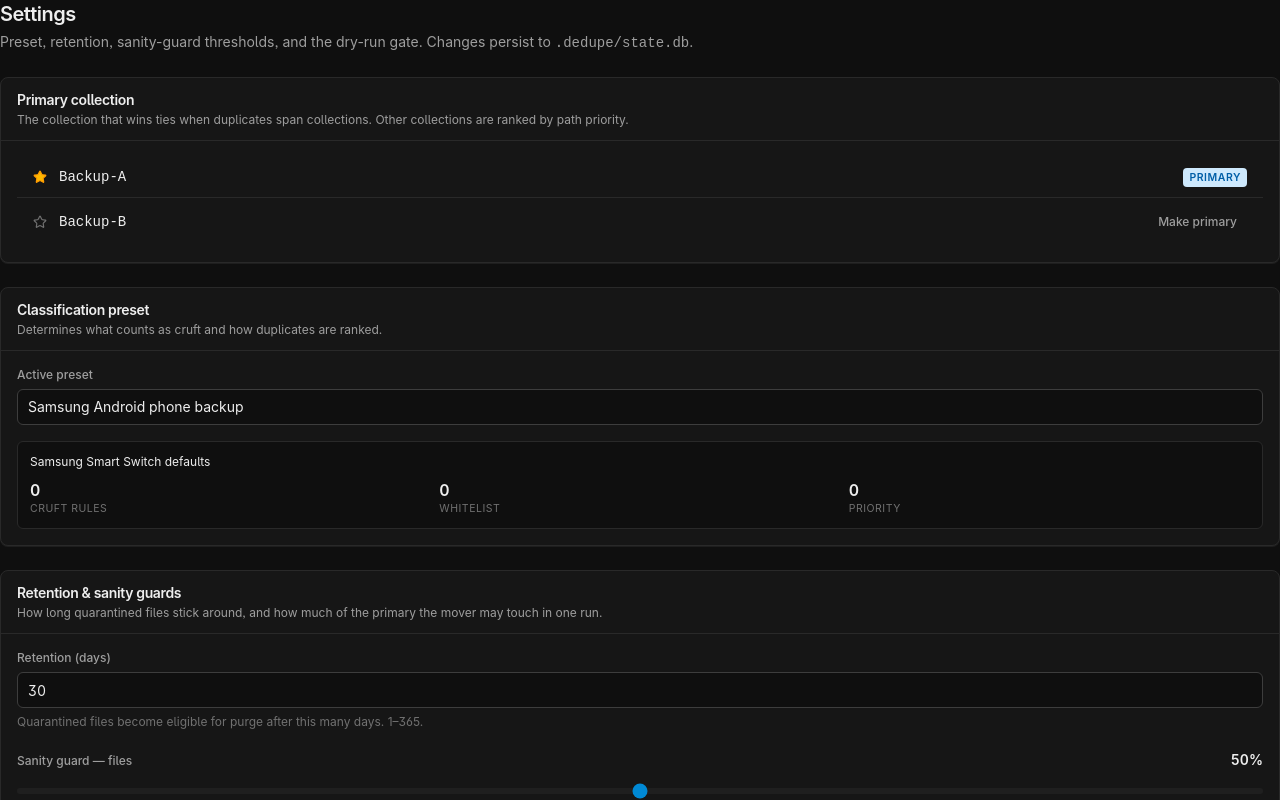
it: SettingsPage › rejects retention value outside 1..365 with an inline error
Step 1. Replace the text in the number field labelled "Retention (days)" with "0" → (640, 690), box [17,672,1263,708]
(page scrolled)
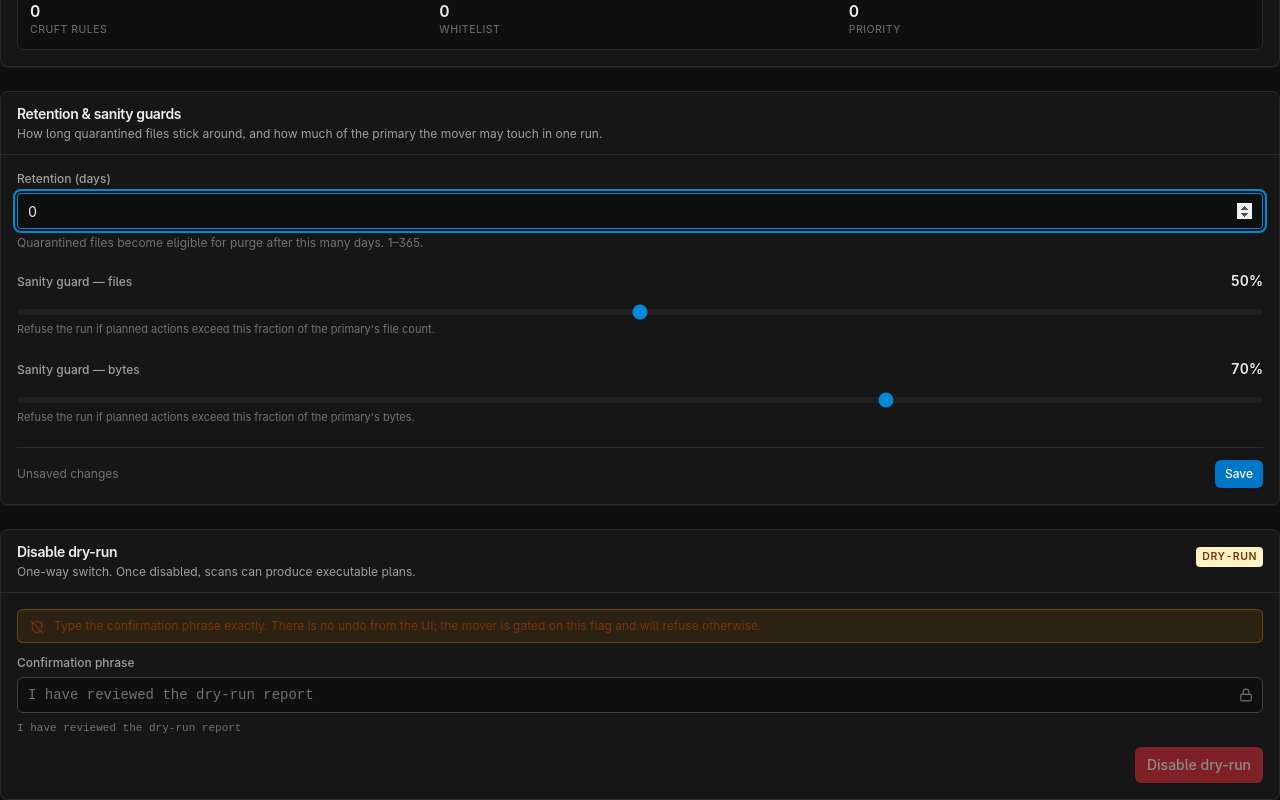
Step 2. Click the button "Save" → (1239, 474), box [1215,460,1263,488]
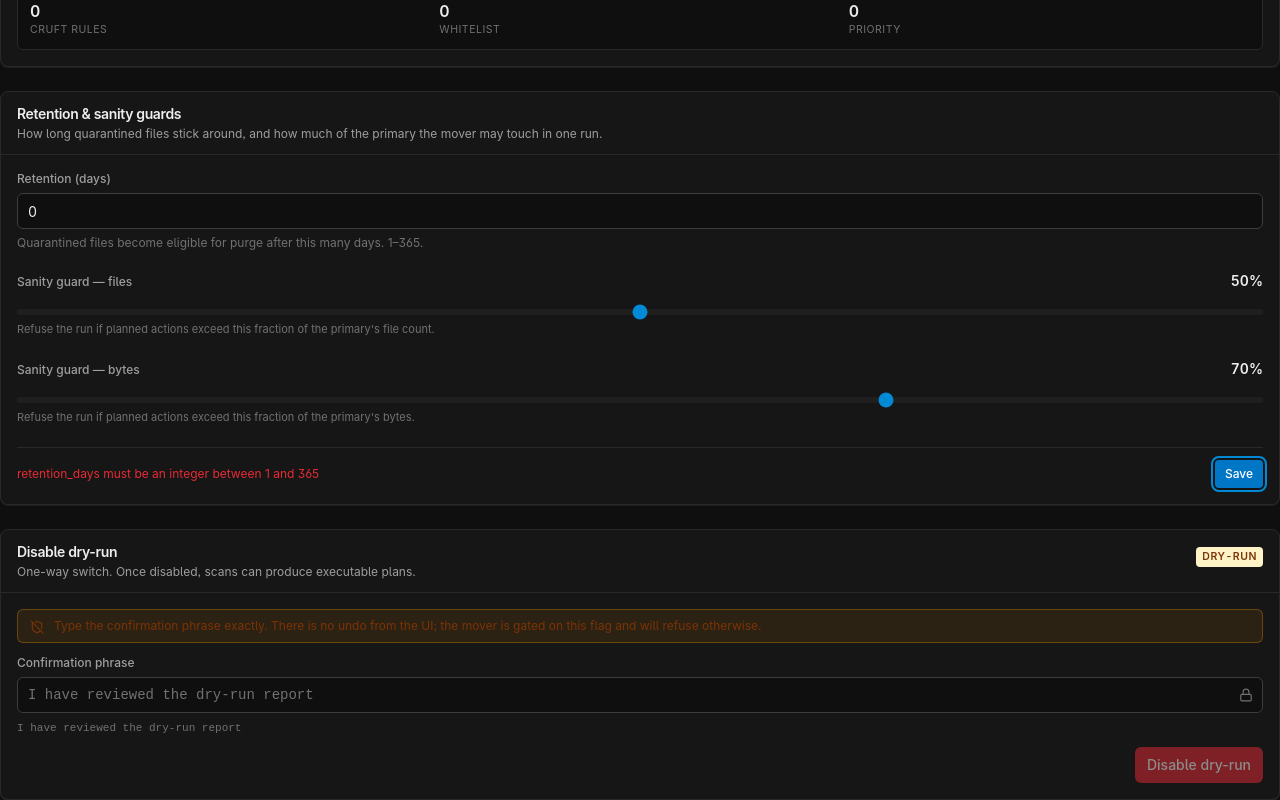
Result: the text "retention_days must be an integer between 1 and 365" is shown at [17,466,319,482]
